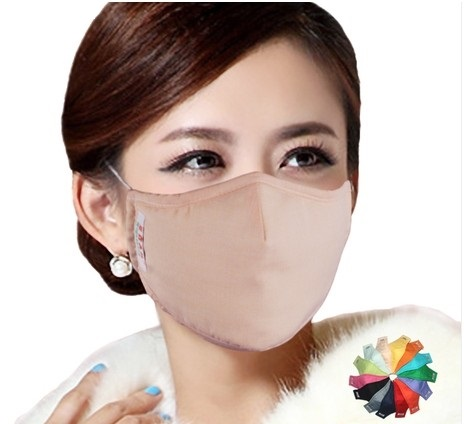face_mask: (126, 37, 353, 339)
